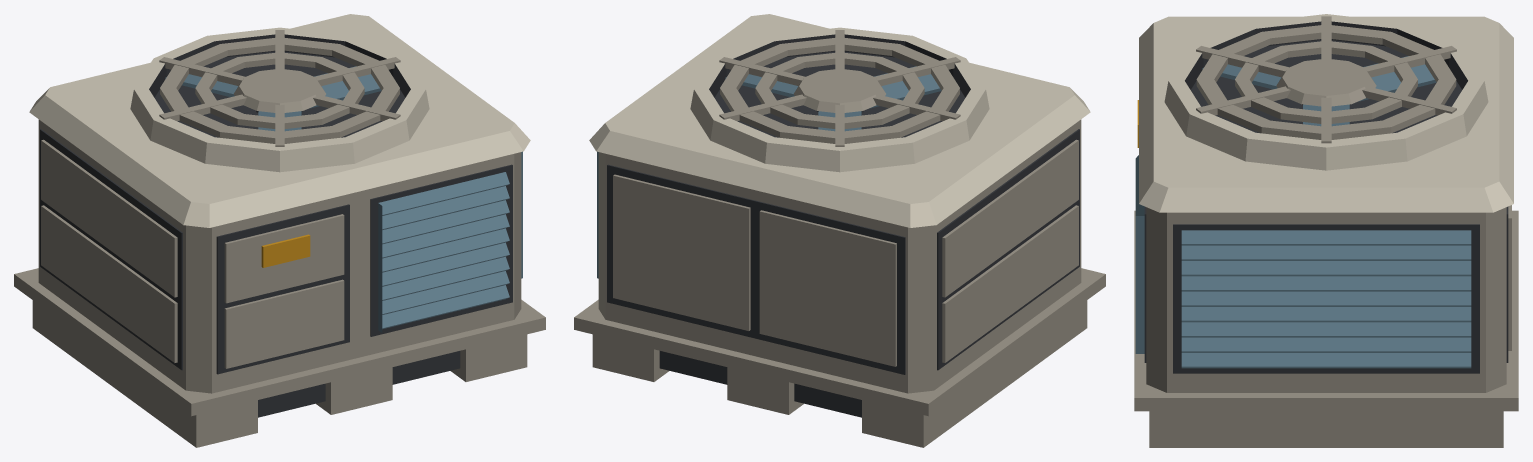
The model's file is rooftop-ac-unit-6ccb3c.glb.
3 renders of one model, left to right at view 1: azimuth 30°, elevation 25°; view 2: azimuth 150°, elevation 25°; view 3: azimuth 270°, elevation 25°, orthographic. The views are drawn at different scales.
Parts seen in each view (by area): view 1: body, fan-mesh; view 2: body, fan-mesh; view 3: body, fan-mesh.
Part boxes in pixels (left/top/right/bottom): body: left=14, top=14, right=545, bottom=447; fan-mesh: left=165, top=66, right=381, bottom=131; body: left=574, top=14, right=1105, bottom=447; fan-mesh: left=725, top=66, right=941, bottom=131; body: left=1134, top=14, right=1518, bottom=447; fan-mesh: left=1202, top=56, right=1436, bottom=126.
Size of the model in its own units: 1.5 by 1.06 by 1.3.
